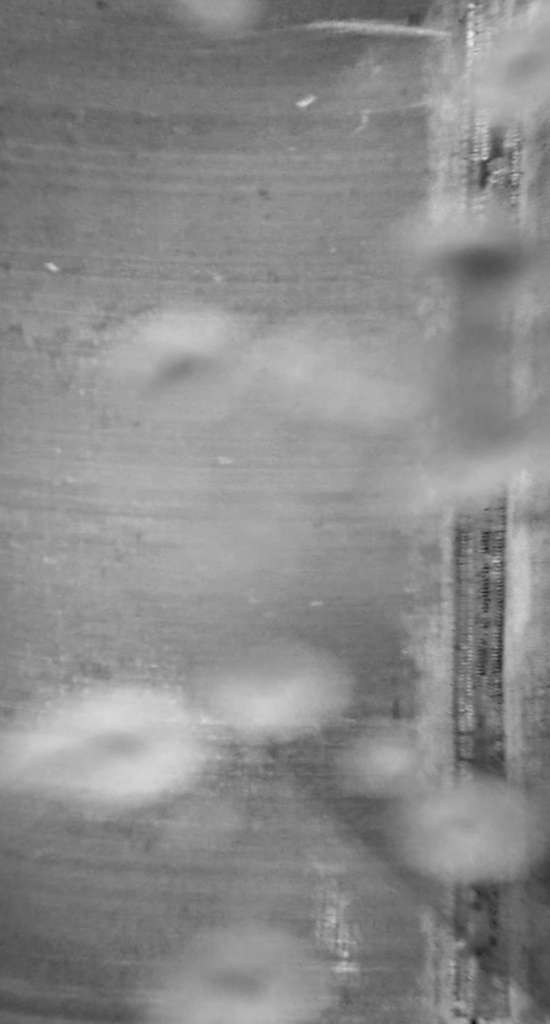splice: (447, 1, 531, 1024)
